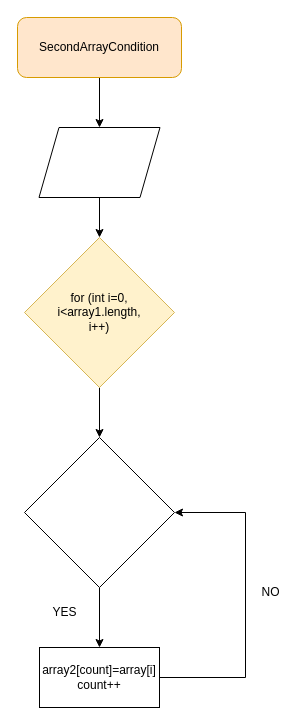
Image size: 308x725. Some labels were removed from this diagram. Each missing label, with the box of its shape:
if (array1 [i].length<=3): (24, 436, 174, 588)
string array 1 string array 2 int count=0: (38, 126, 160, 198)
